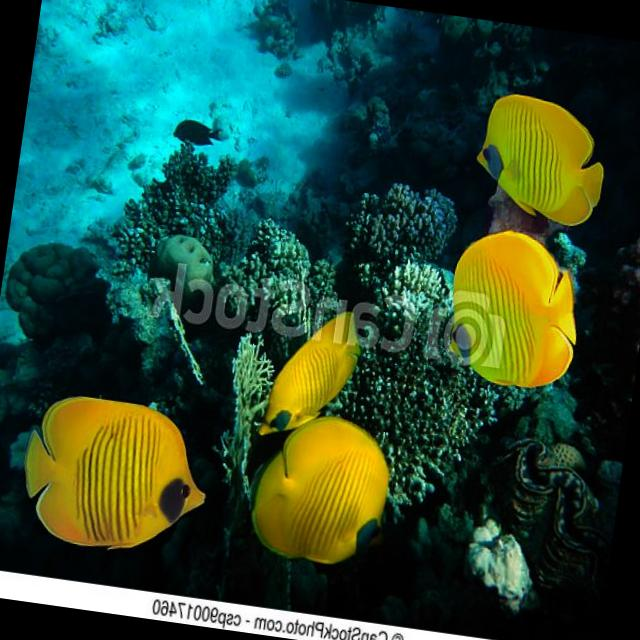ButterflyFish: (4, 388, 211, 562), (420, 232, 602, 408), (240, 413, 418, 574), (456, 84, 624, 229), (230, 298, 382, 448)
